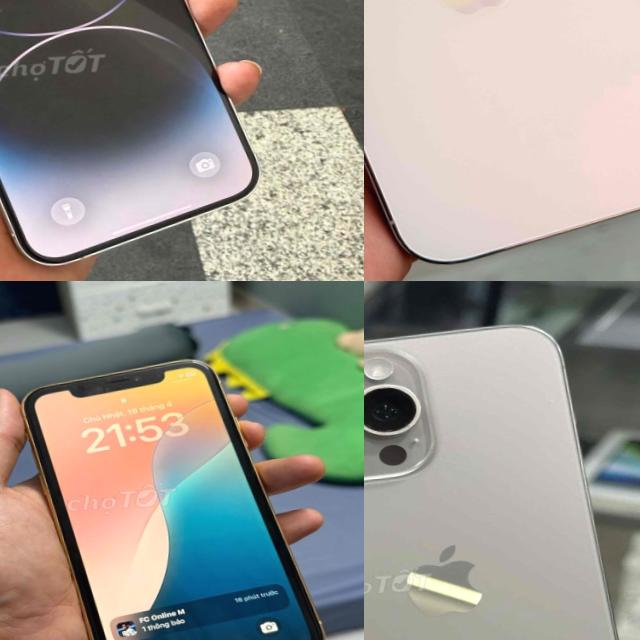gen_14: (364, 0, 640, 280), (0, 0, 265, 281)
gen_15: (364, 294, 640, 640)
gen_x_xs: (23, 360, 323, 640)
